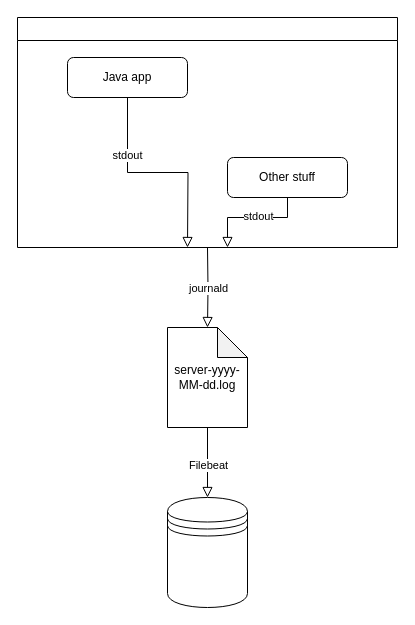
This 415x625 diagram has some shape labels left out. Each missing label, with the centre of its shape:
downstream ELK: (207,552)
systemd service: (207,132)
